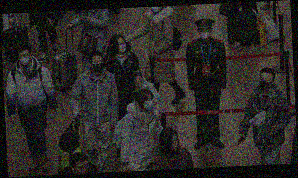with_mask: (259, 75, 273, 91), (16, 52, 32, 66), (91, 58, 105, 73), (198, 28, 212, 42), (141, 97, 155, 111), (115, 40, 128, 54)
without_mask: (169, 137, 181, 151), (76, 163, 90, 174)
